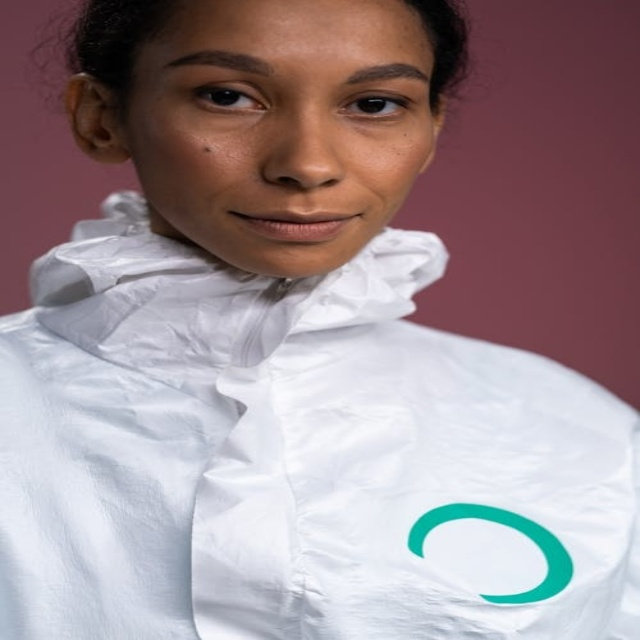Sin_gafas: (155, 45, 428, 132)
Sin_mascara: (210, 198, 366, 261)
